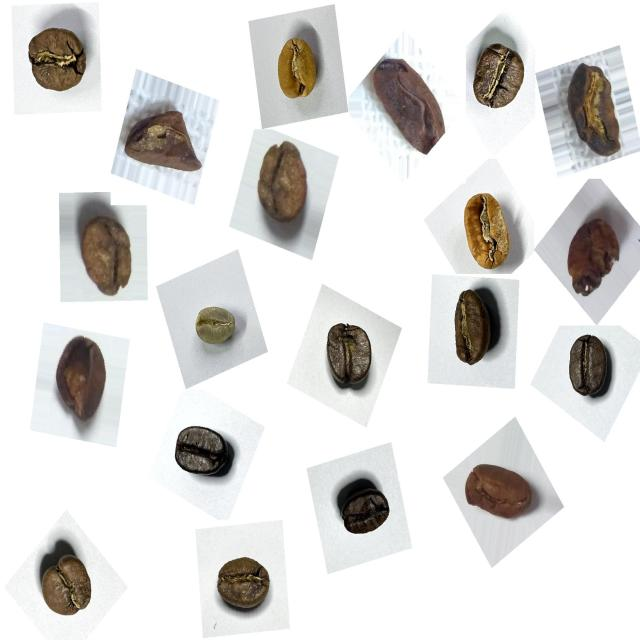bad: (367, 51, 454, 168), (560, 56, 634, 168), (123, 91, 210, 186), (66, 202, 143, 305), (246, 135, 322, 239), (455, 449, 541, 538), (44, 328, 119, 430), (556, 206, 631, 308)
dark: (170, 410, 244, 490), (332, 467, 401, 550), (556, 326, 624, 410)
green: (185, 295, 244, 358)
light: (453, 183, 524, 280), (264, 27, 329, 114)
medium: (17, 15, 96, 109), (438, 278, 510, 378), (459, 32, 534, 124), (30, 543, 103, 631), (312, 313, 384, 397), (208, 544, 280, 623)
